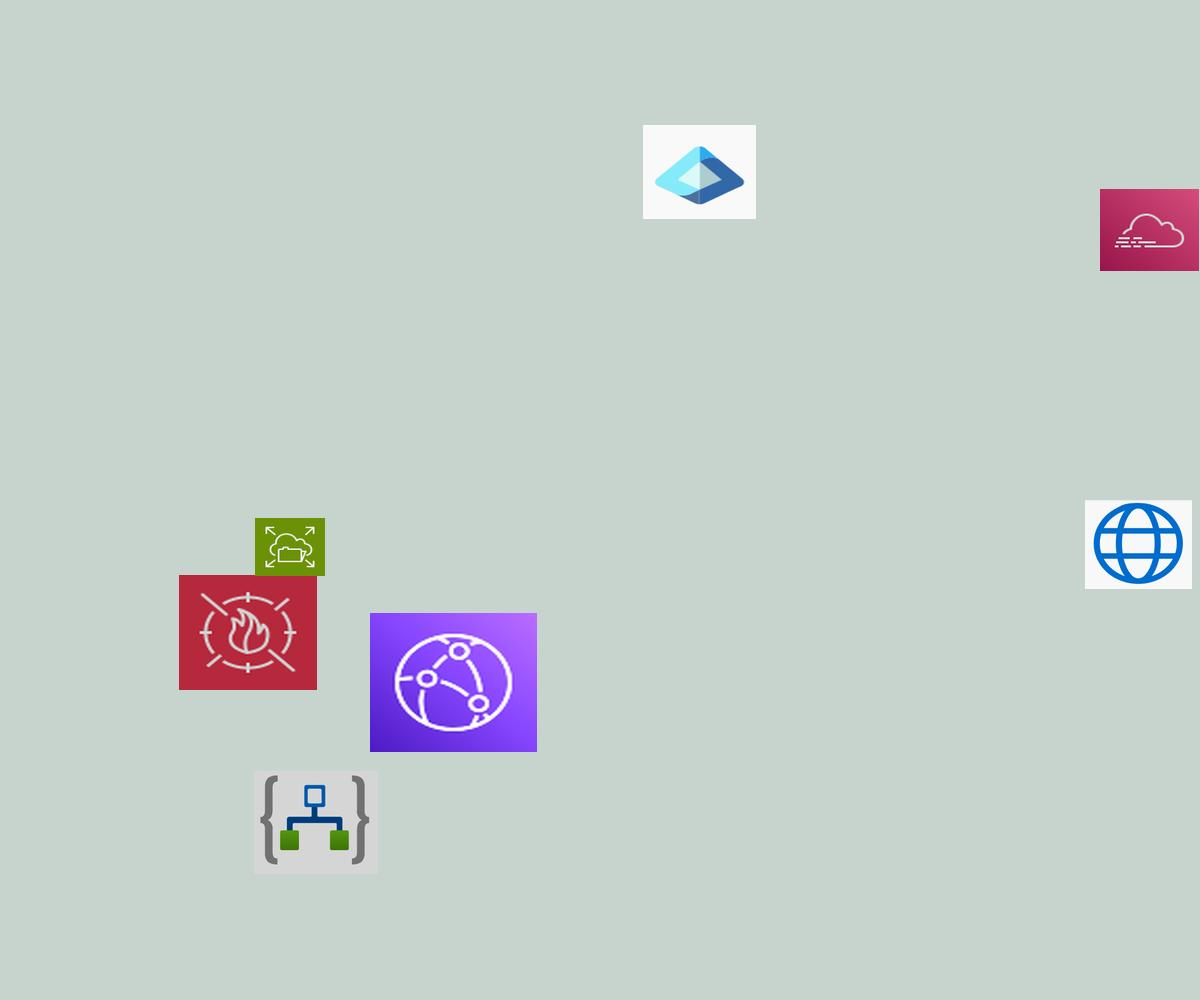AWS-CloudFront: (370, 613, 537, 752)
AWS-CloudTrail: (1100, 189, 1199, 271)
AWS-EFS: (255, 518, 325, 576)
AWS-WAF: (179, 575, 317, 690)
Azure_http: (1085, 500, 1192, 589)
Azure_integration-204-Logic-Apps: (254, 771, 378, 874)
Azure_microsoft_entra: (643, 125, 756, 219)
